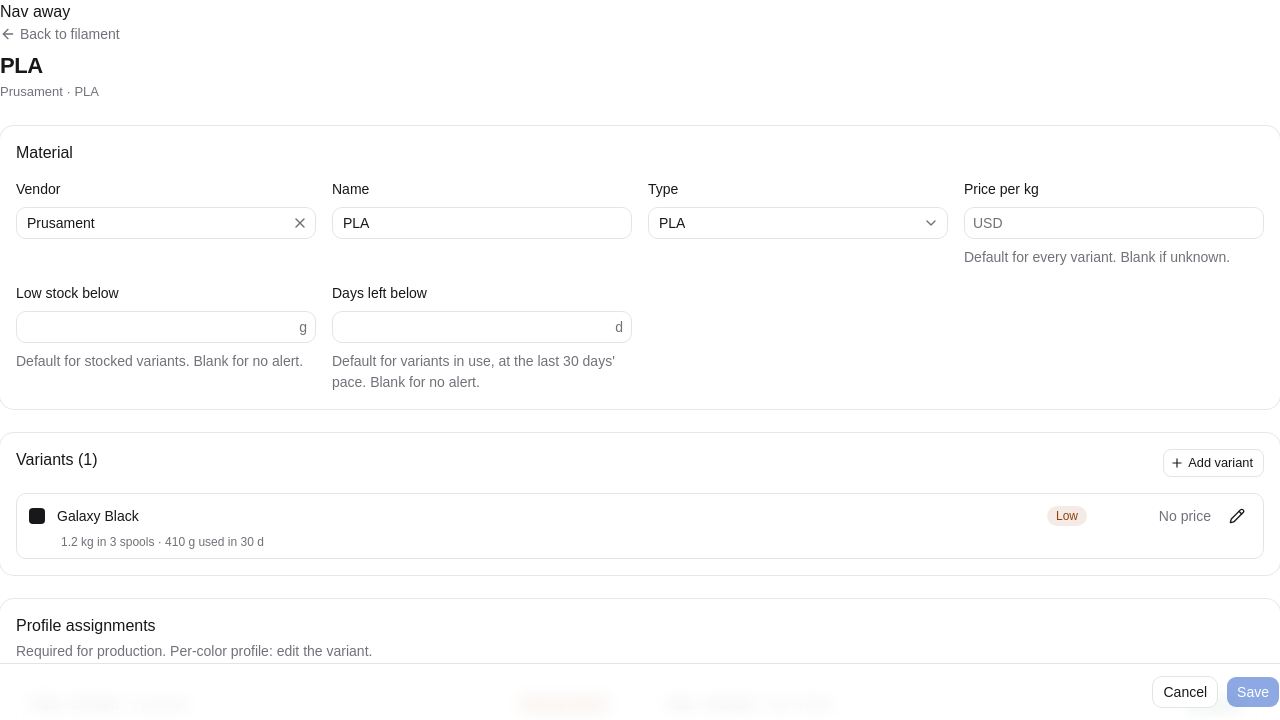
Test case: FilamentFormPage › stages a new variant and assignment change in the draft and saves them in one PUT
Expected: the text "Variants (1)" is shown, 16,451 -> 98,468
Expected: the button "Save" is disabled, 1226,676 -> 1279,708
Click the button "Add variant": coordinates (1214, 463) 1163,449 -> 1264,477
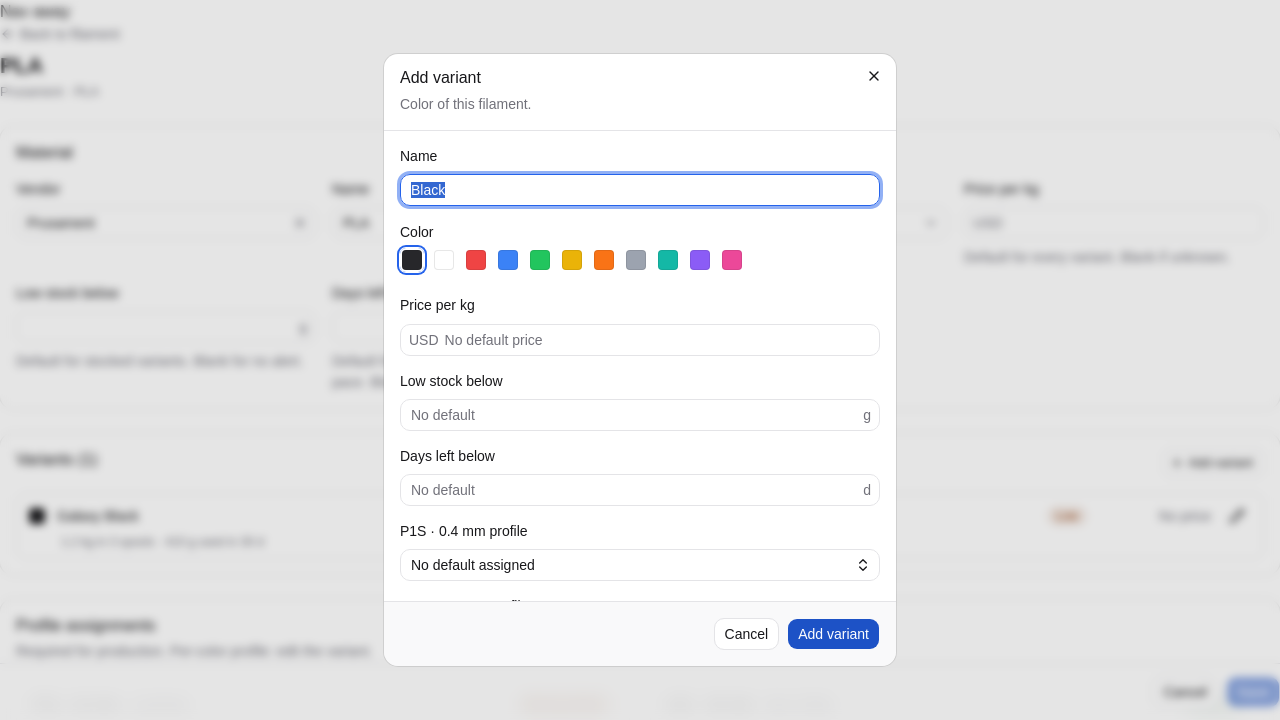
Replace the text in the field labelled "Name" with "Red": coordinates (640, 190) 400,174 -> 880,206
Click the button named "Red": coordinates (476, 260) 464,248 -> 488,272
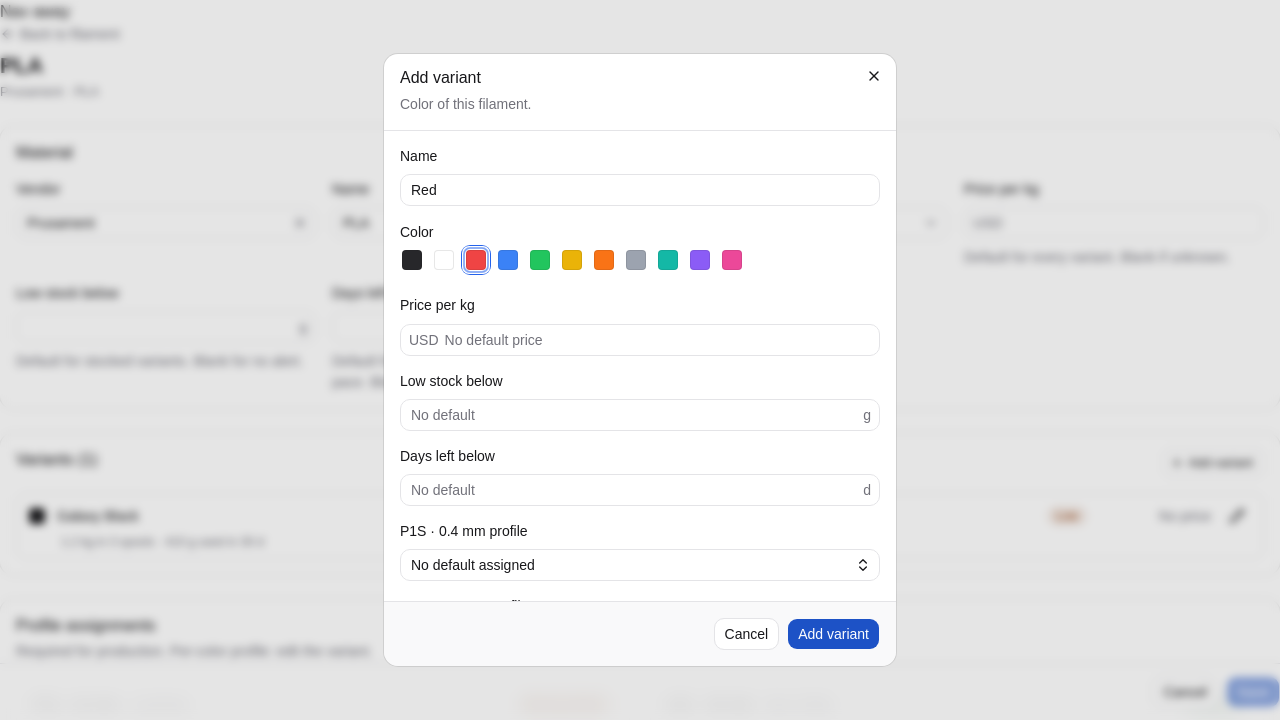
Click the button "Add variant": coordinates (834, 634) 787,618 -> 880,650
(page scrolled)
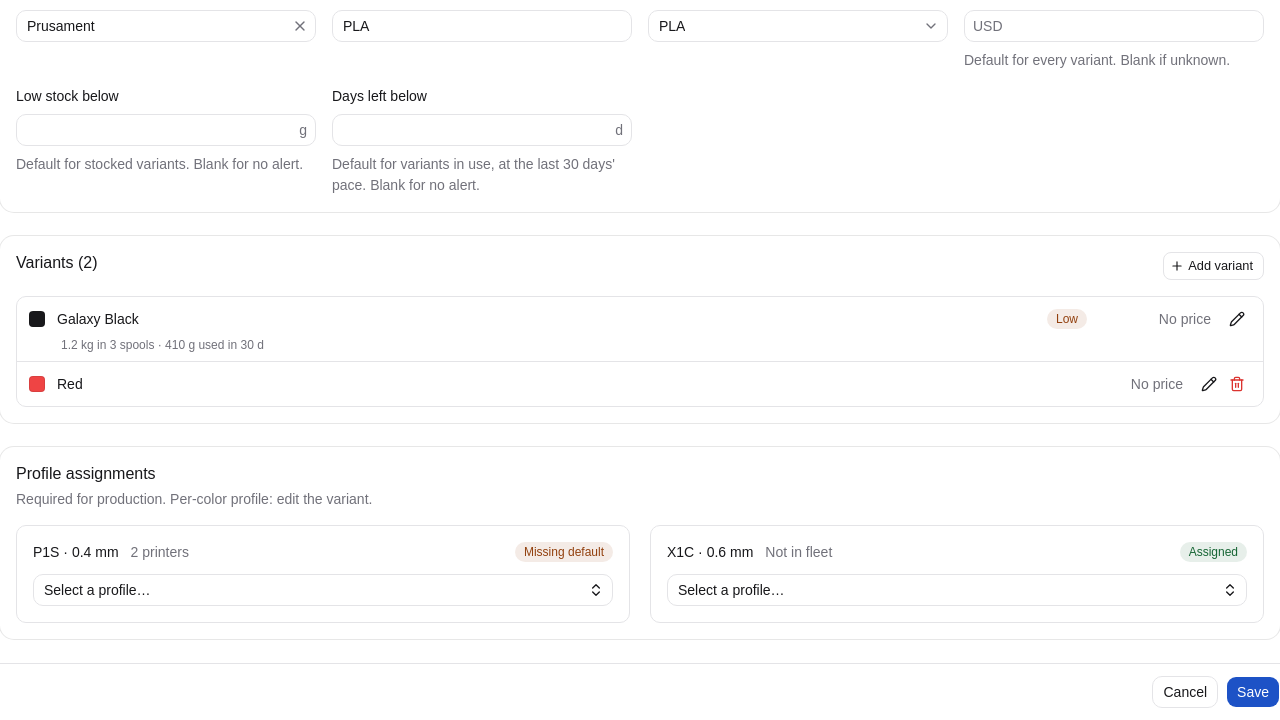
Expected: the text "Variants (2)" is shown, 16,254 -> 98,271
Expected: the button named "Remove Red" is shown, 1223,370 -> 1251,398
Click the button with aria-label "Default profile for P1S · 0.4 mm": coordinates (97, 590) 33,574 -> 613,606
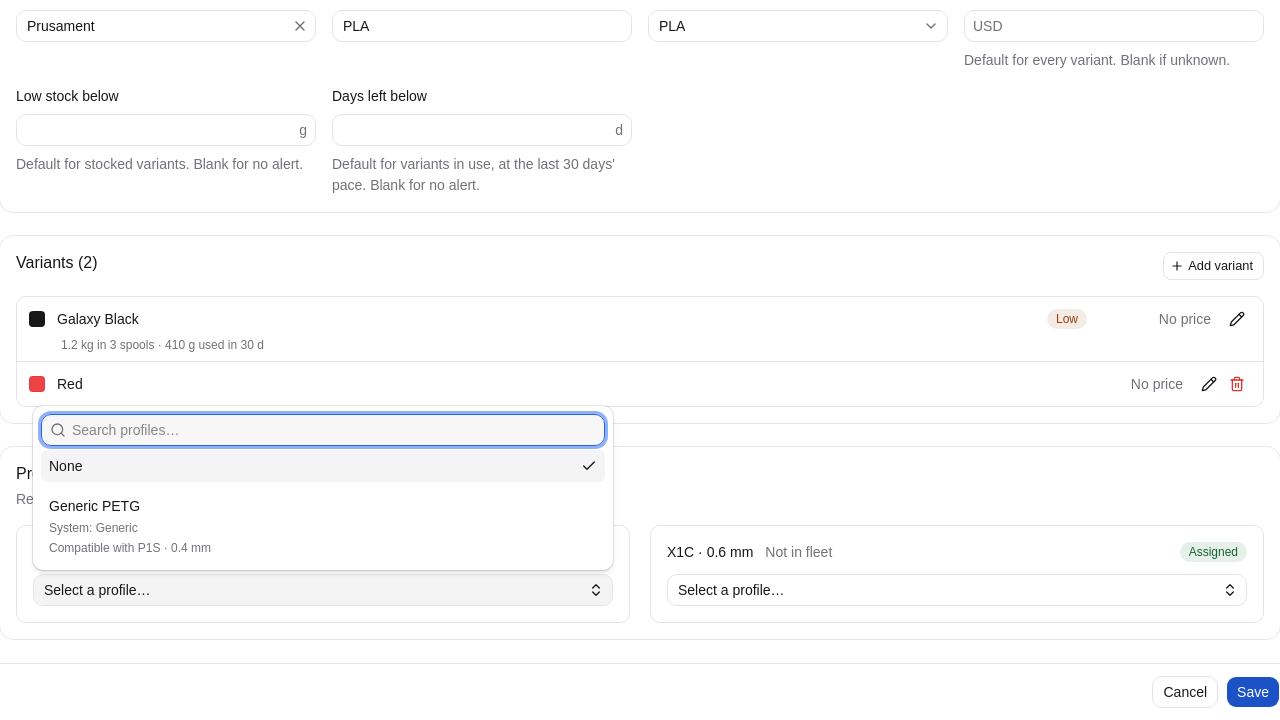
Click the option "Generic PETG System: Generic Compatible with P1S · 0.4 mm": coordinates (130, 526) 49,498 -> 211,555
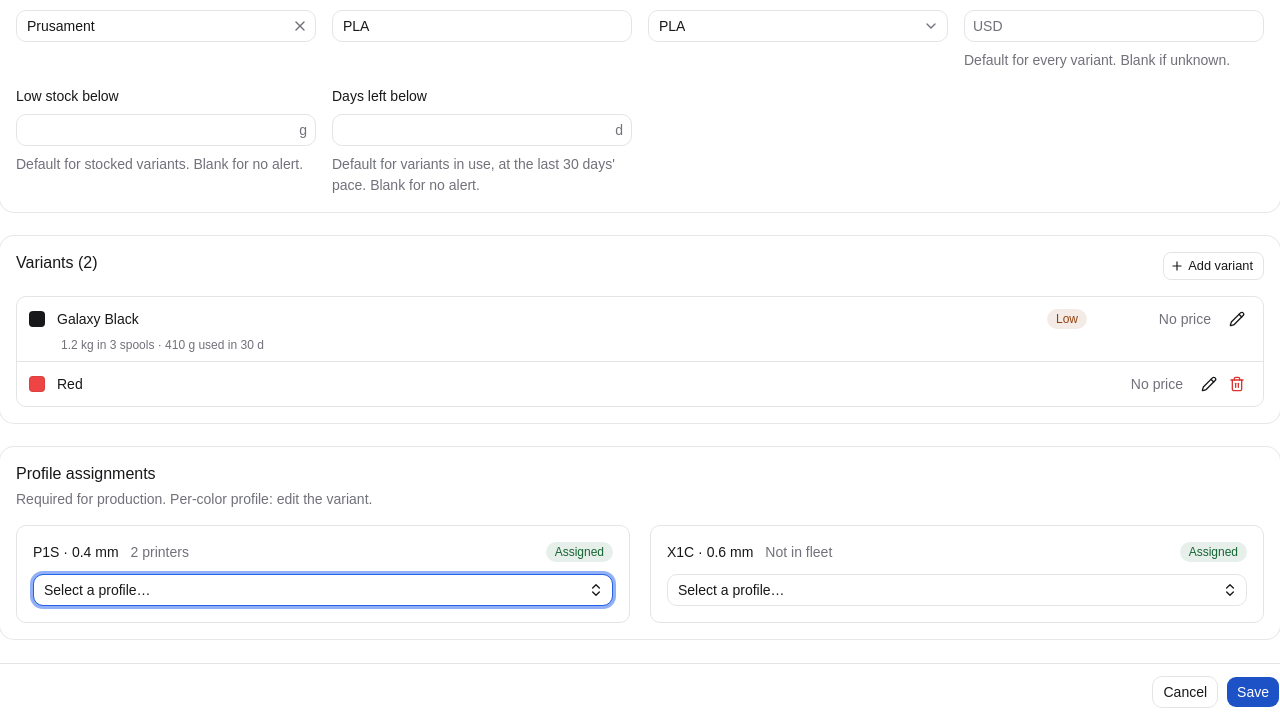
Click the button "Save": coordinates (1253, 692) 1226,676 -> 1279,708
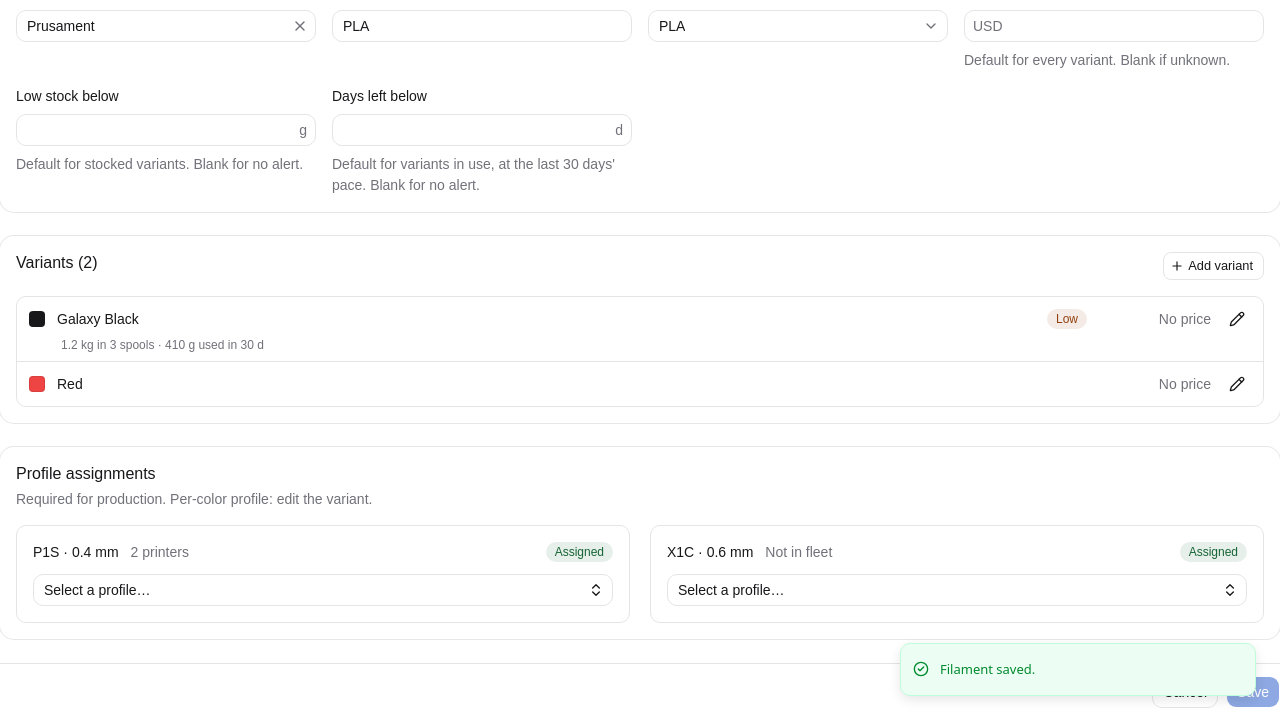
Expected: the text "Filament saved." is shown, 940,660 -> 1035,679
Expected: the button "Save" is disabled, 1226,676 -> 1279,708
